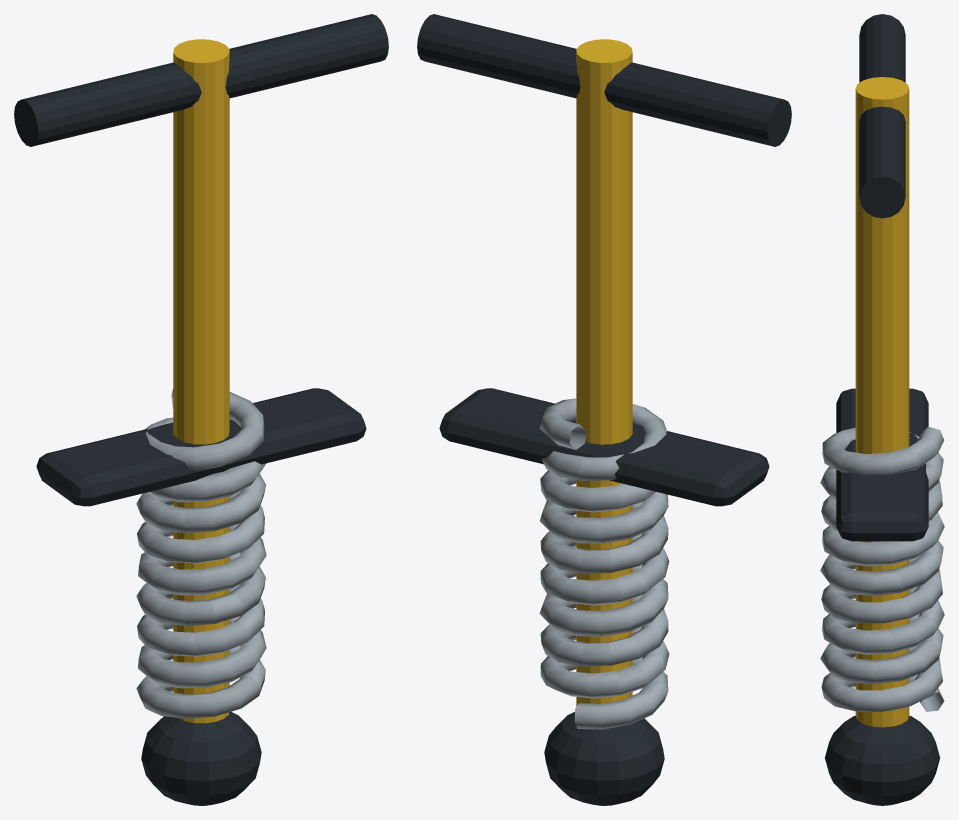
The model's file is pogo-stick.glb.
3 views of the same model, side by side, from view 1: azimuth 30°, elevation 25°; view 2: azimuth 150°, elevation 25°; view 3: azimuth 270°, elevation 25° (orthographic). The views are drawn at different scales.
Visible parts, largest first — view 1: pogo shaft; view 2: pogo shaft; view 3: pogo shaft.
Boxes of the visible parts, bbox=[...] form: pogo shaft: bbox=[14, 14, 388, 805]; pogo shaft: bbox=[417, 14, 791, 805]; pogo shaft: bbox=[820, 14, 944, 805].
Size of the model in its own units: 0.5 by 1.02 by 0.1619.
